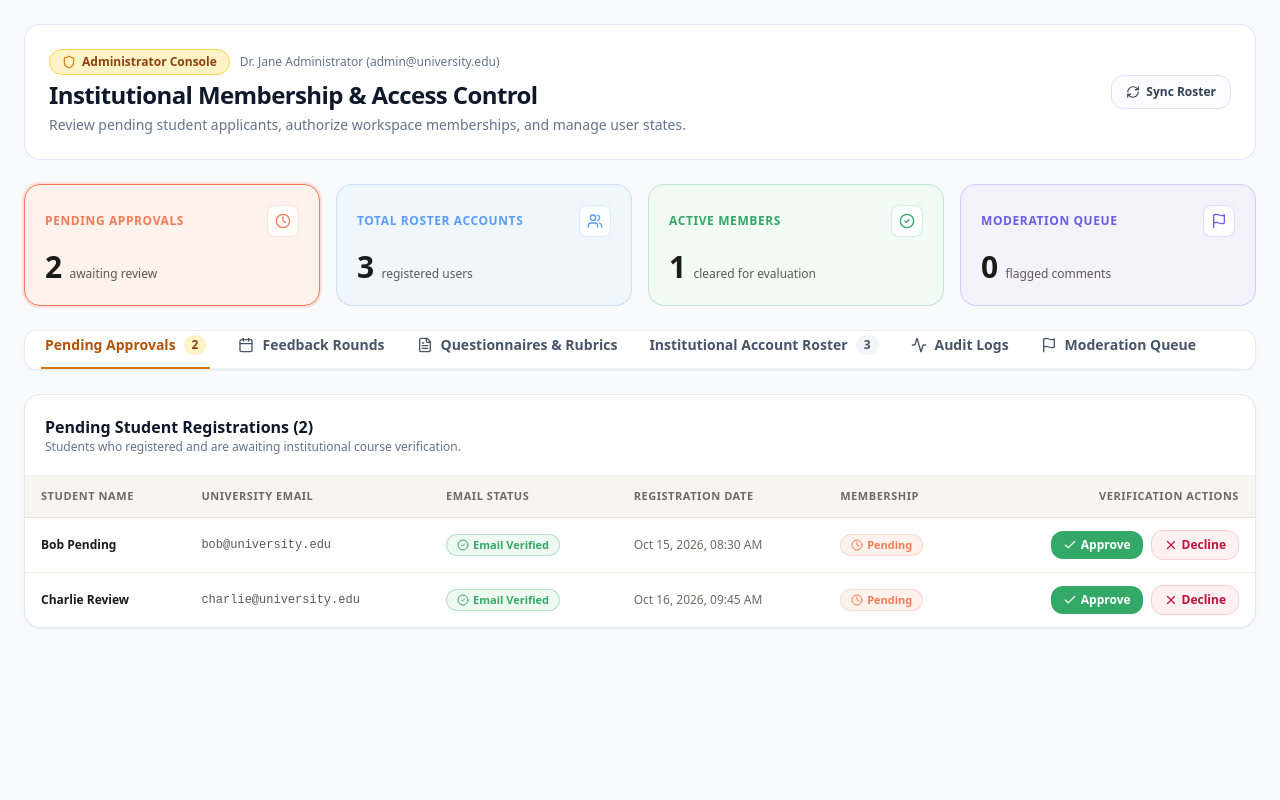
it: Administrator Dashboard & Membership Views (Stage 4) › declines a student registration with optional reason
// Open decline modal
Step 1. Click the button with aria-label "Decline Charlie Review" → [1195, 600], box left=1151, top=584, right=1239, bottom=614
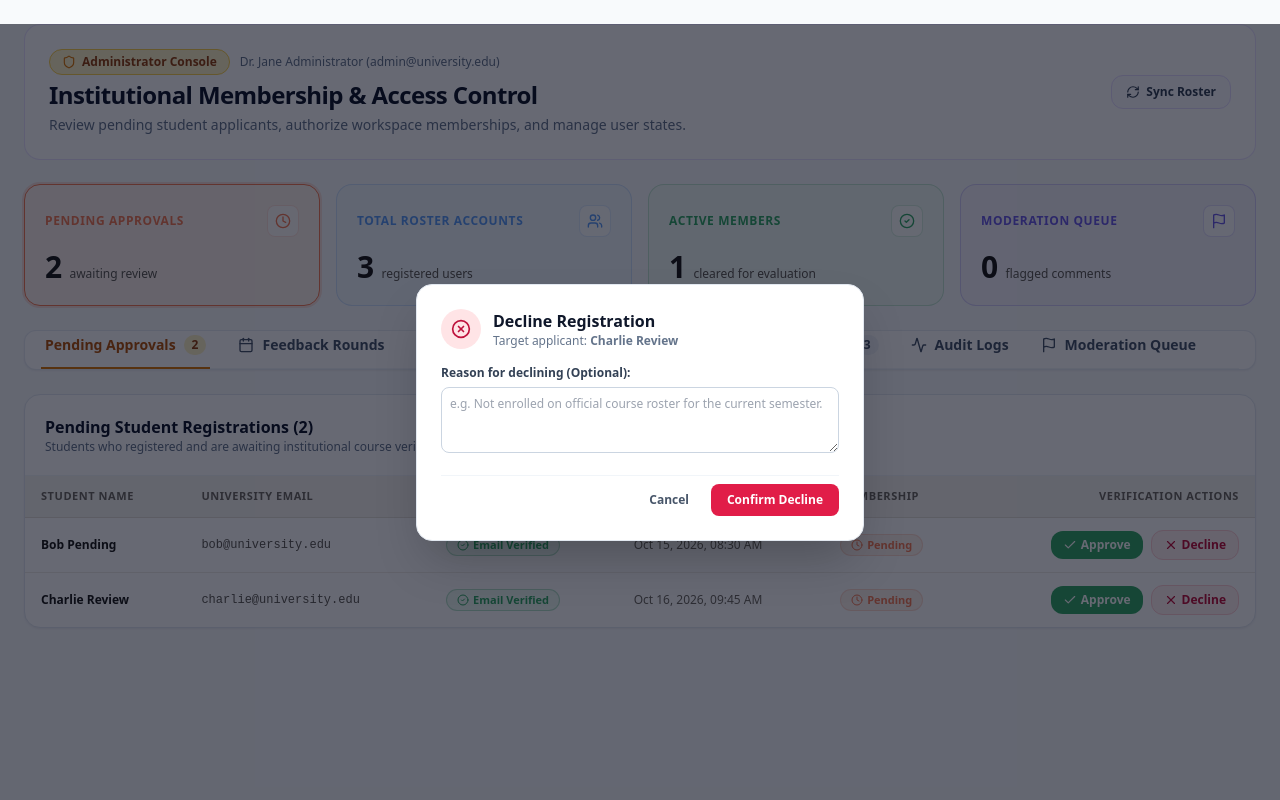
Expected: the heading "Decline Registration" is shown, left=493, top=308, right=678, bottom=332
Step 2. Replace the text in the text box labelled "Reason for declining (Optional):" with "Not enrolled in current semester roster" → [640, 420], box left=441, top=386, right=839, bottom=452
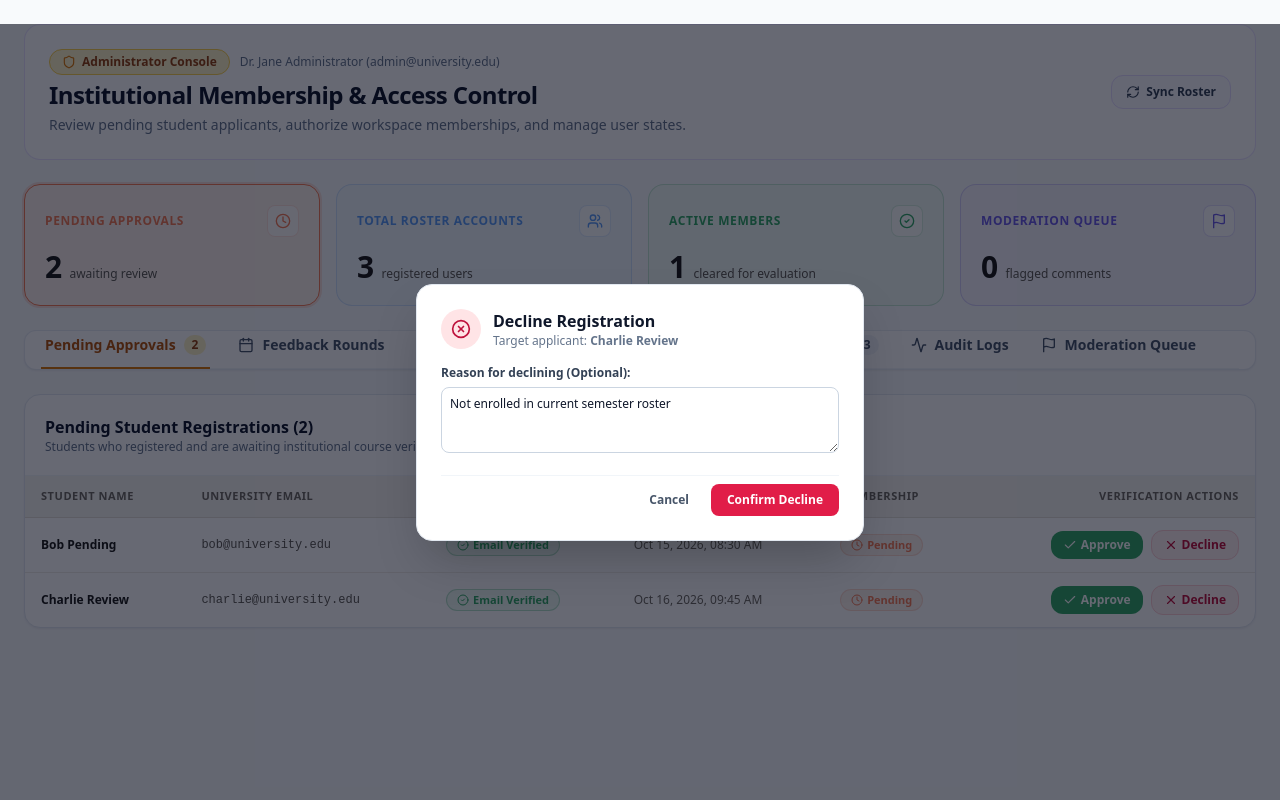
Step 3. Click the button "Confirm Decline" → [775, 500], box left=711, top=484, right=839, bottom=516
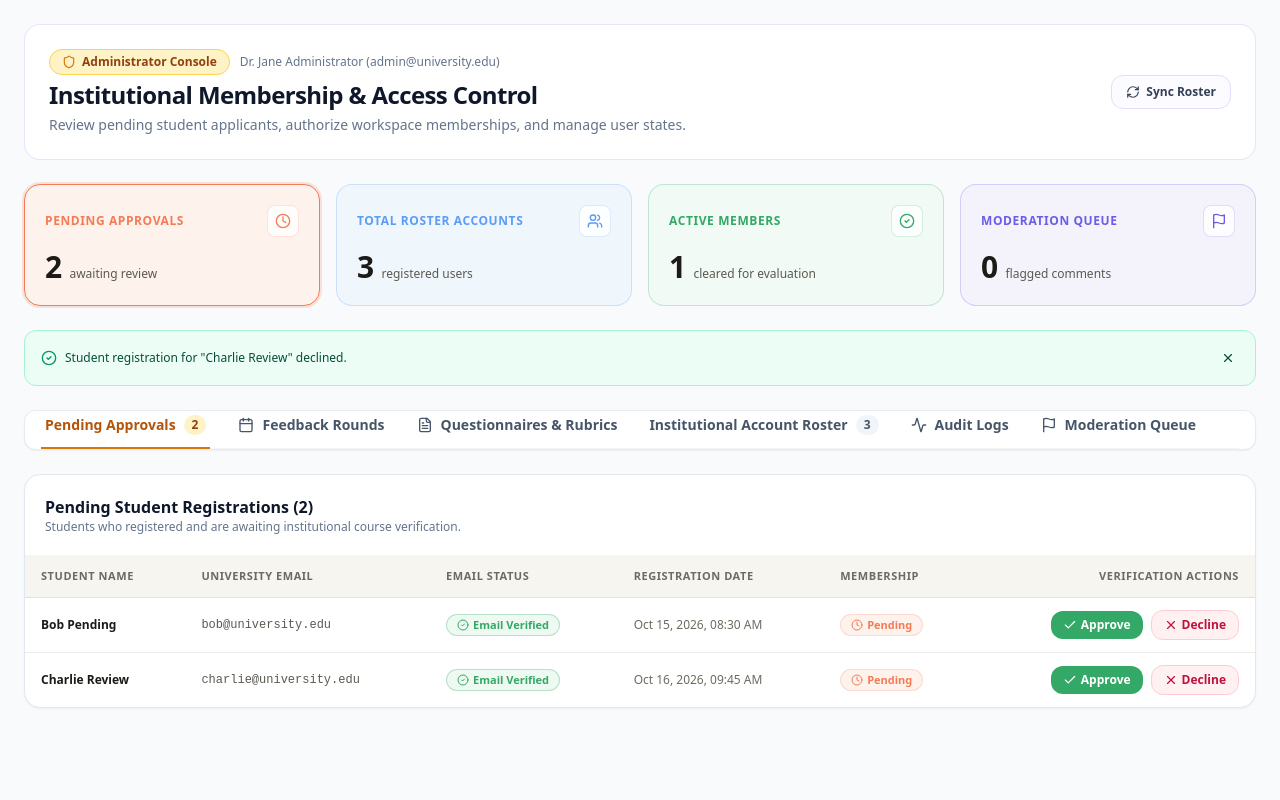
Expected: the text "Student registration for \"Charlie Review\" declined." is shown, left=65, top=350, right=347, bottom=366
